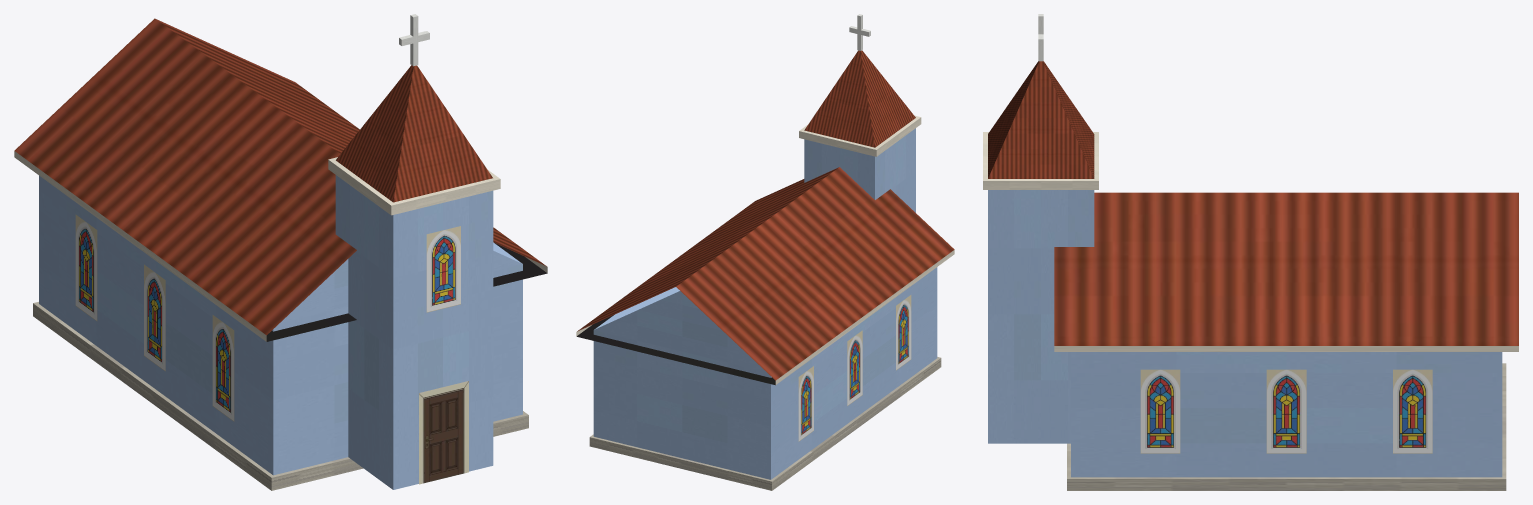
File: church-sky.glb
The picture shows the model from 3 angles, left to right: view 1: azimuth 30°, elevation 25°; view 2: azimuth 150°, elevation 25°; view 3: azimuth 270°, elevation 25°; orthographic projection. The views are drawn at different scales.
Parts seen in each view (by area): view 1: church-sky; view 2: church-sky; view 3: church-sky.
Boxes of the visible parts, bbox=[...] form: church-sky: bbox=[14, 14, 547, 490]; church-sky: bbox=[576, 14, 954, 490]; church-sky: bbox=[983, 14, 1518, 490].
Bounding box in the file's own units: 9 × 13.9 × 16.15.
Materials: 1 (1 with a texture image).
